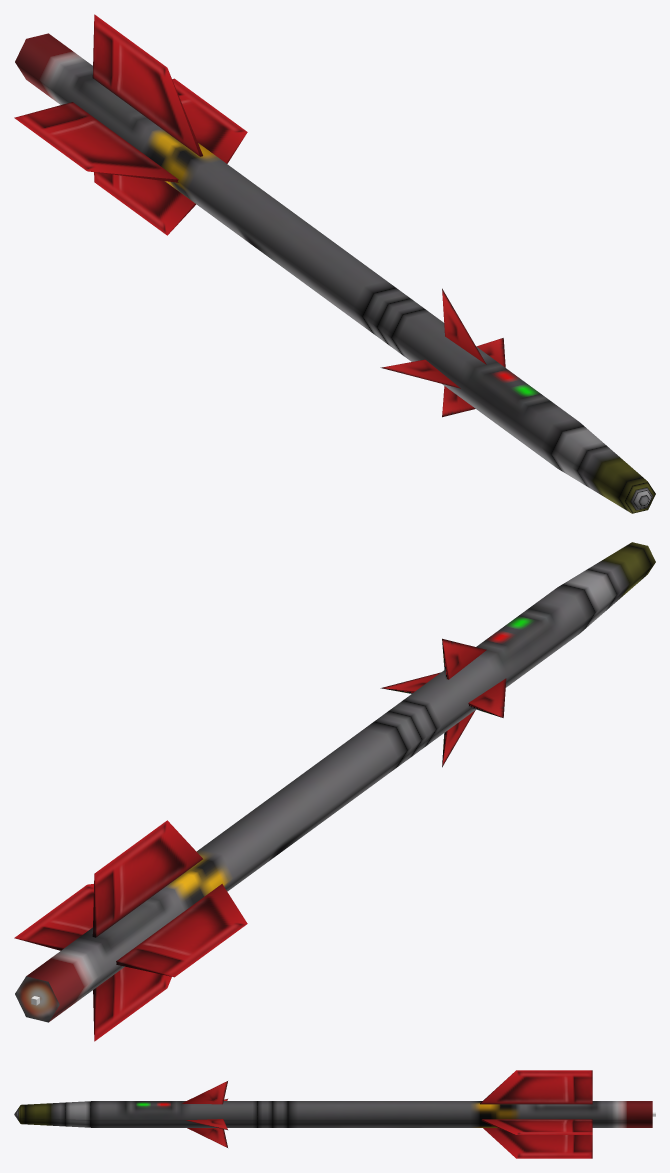
Rendered from mis05_static.obj.
3 renders of one model, top to bottom at view 1: azimuth 30°, elevation 25°; view 2: azimuth 150°, elevation 25°; view 3: azimuth 270°, elevation 25°, orthographic. The views are drawn at different scales.
Visible parts, largest first — view 1: frm-body, frm-rear_fin5, frm-rear_fin6, frm-rear_fin7, frm-rear_fin5_1, frm-frontfin4, frm-frontfin5; view 2: frm-body, frm-rear_fin5, frm-rear_fin6, frm-rear_fin7, frm-rear_fin5_1, frm-frontfin4, frm-frontfin5; view 3: frm-body, frm-rear_fin5, frm-rear_fin7, frm-rear_fin5_1, frm-frontfin4, frm-frontfin7, frm-frontfin4_1.
Boxes of the visible parts, left/top/right/bottom form: frm-body: left=15, top=33, right=655, bottom=513; frm-rear_fin5: left=92, top=14, right=202, bottom=156; frm-rear_fin6: left=14, top=102, right=178, bottom=182; frm-rear_fin7: left=94, top=172, right=196, bottom=235; frm-rear_fin5_1: left=172, top=78, right=247, bottom=163; frm-frontfin4: left=442, top=288, right=486, bottom=364; frm-frontfin5: left=380, top=359, right=460, bottom=388; frm-body: left=15, top=542, right=655, bottom=1022; frm-rear_fin5: left=92, top=820, right=202, bottom=937; frm-rear_fin6: left=116, top=884, right=247, bottom=977; frm-rear_fin7: left=93, top=966, right=171, bottom=1041; frm-rear_fin5_1: left=14, top=884, right=93, bottom=950; frm-frontfin4: left=442, top=638, right=486, bottom=679; frm-frontfin5: left=468, top=678, right=506, bottom=717; frm-body: left=14, top=1101, right=652, bottom=1127; frm-rear_fin5: left=480, top=1070, right=592, bottom=1104; frm-rear_fin7: left=483, top=1128, right=592, bottom=1158; frm-rear_fin5_1: left=481, top=1119, right=592, bottom=1134; frm-frontfin4: left=182, top=1081, right=227, bottom=1104; frm-frontfin7: left=187, top=1128, right=227, bottom=1147; frm-frontfin4_1: left=185, top=1119, right=227, bottom=1129.
Bounding box in the file's own units: 1.73 × 1.73 × 11.41.
